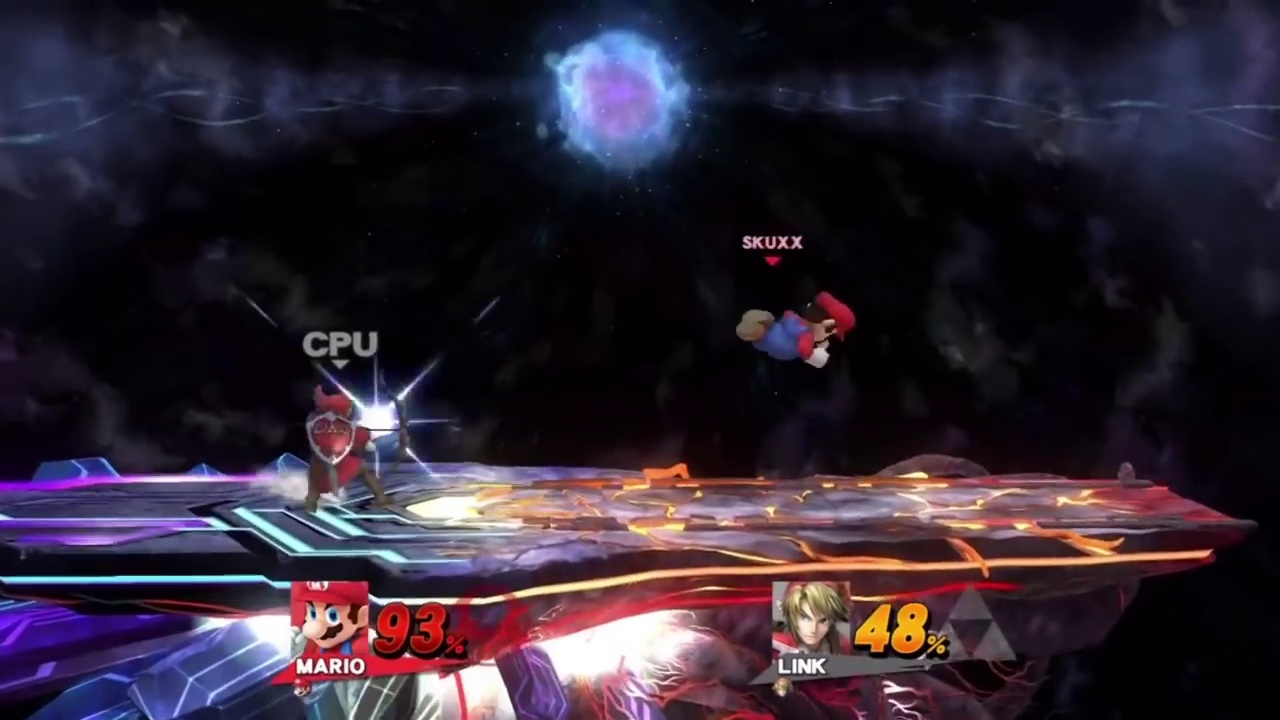Mario: (732, 290, 853, 370)
